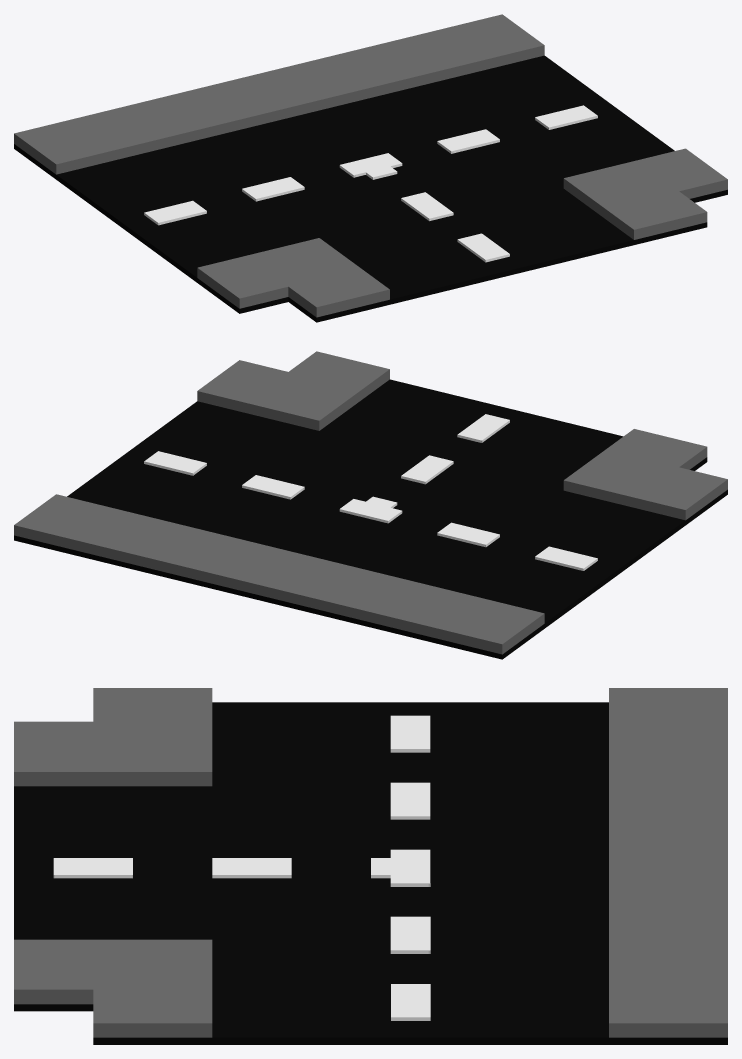
Rendered from tcrossroad.gltf.
3 renders of one model, top to bottom at view 1: azimuth 30°, elevation 25°; view 2: azimuth 150°, elevation 25°; view 3: azimuth 270°, elevation 25°, orthographic. The views are drawn at different scales.
Parts seen in each view (by area): view 1: Cube.001; view 2: Cube.001; view 3: Cube.001.
Part boxes in pixels (x1,y1,x2,y2): Cube.001: [14, 14, 727, 322]; Cube.001: [14, 351, 727, 659]; Cube.001: [14, 688, 727, 1044].
Bounding box in the file's own units: 20 × 0.6 × 18.
Materials: 1 (1 with a texture image).
